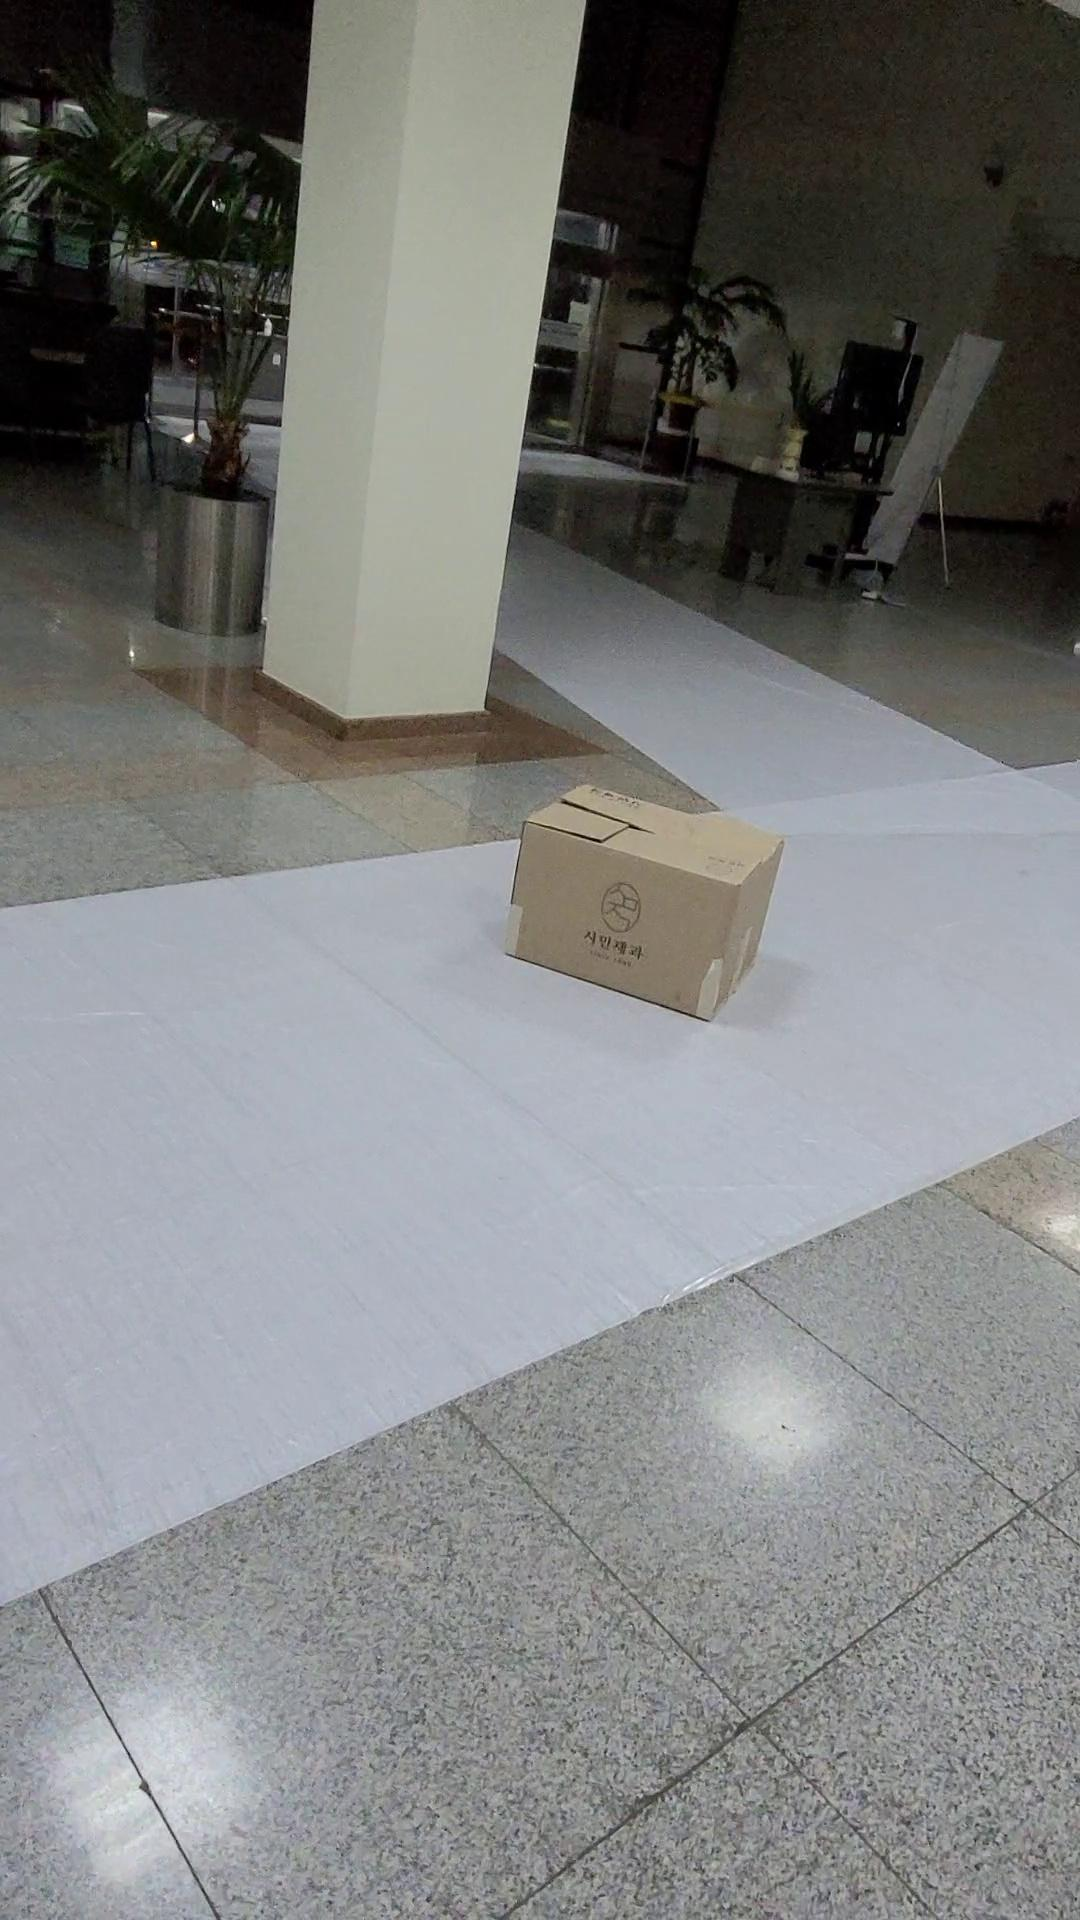Box: (488, 767, 812, 1035)
